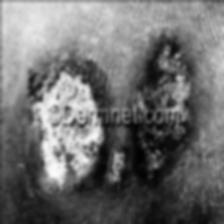Toxin: (36, 120, 102, 182), (133, 46, 191, 108), (22, 62, 100, 106), (138, 124, 166, 174), (107, 152, 125, 182)
